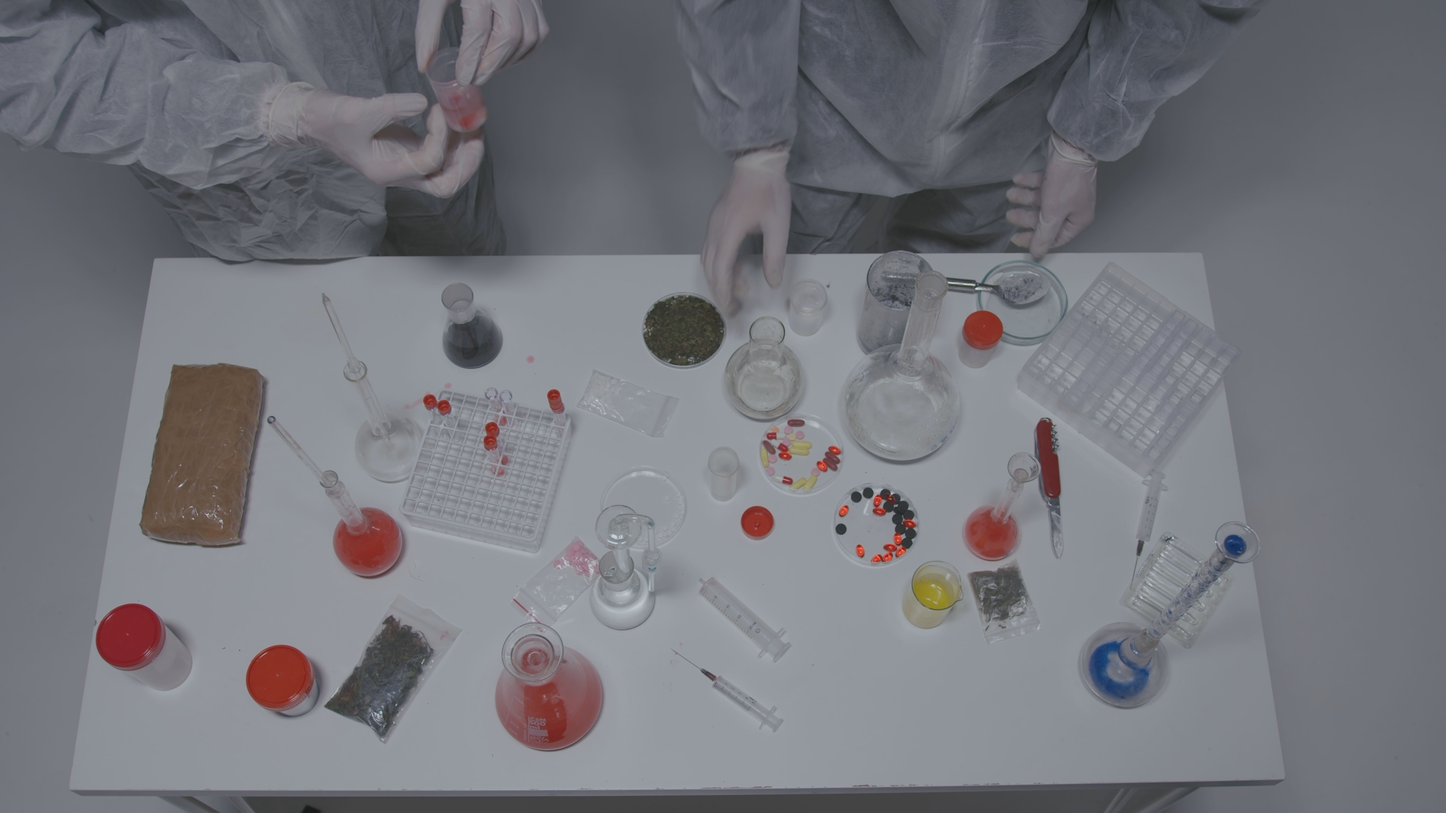gloves: (274, 79, 490, 221), (702, 141, 816, 334), (410, 0, 555, 123), (996, 133, 1108, 270)
